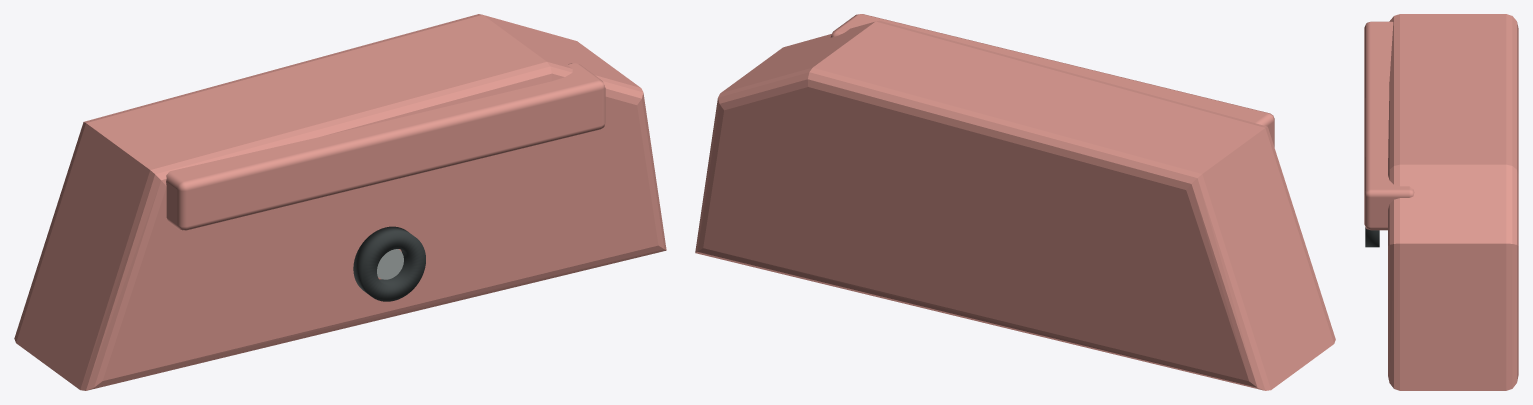
File: indoor-climbing-and-bouldering-gym-indoor-climbing-and-b0afcdf4__31526.glb
3 renders of one model, left to right at view 1: azimuth 30°, elevation 25°; view 2: azimuth 150°, elevation 25°; view 3: azimuth 270°, elevation 25°, orthographic. The views are drawn at different scales.
Parts seen in each view (by area): view 1: indoor-climbing-and-bouldering-gym-narrow-crimp-hold; view 2: indoor-climbing-and-bouldering-gym-narrow-crimp-hold; view 3: indoor-climbing-and-bouldering-gym-narrow-crimp-hold.
Part boxes in pixels (x1,y1,x2,y2): indoor-climbing-and-bouldering-gym-narrow-crimp-hold: (14, 14, 666, 390); indoor-climbing-and-bouldering-gym-narrow-crimp-hold: (695, 14, 1335, 390); indoor-climbing-and-bouldering-gym-narrow-crimp-hold: (1364, 14, 1518, 390).
Bounding box in the file's own units: 0.2734 × 0.0966 × 0.0755.
